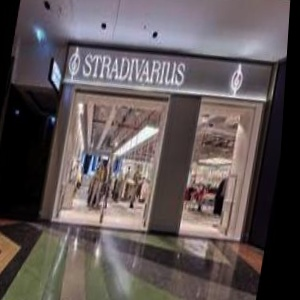stradivarius: (159, 9, 228, 63)
